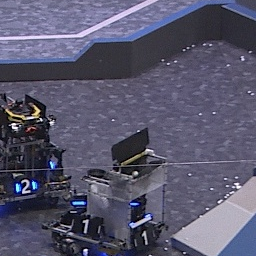Blue: (12, 179, 38, 194)
Dead: (133, 226, 157, 249), (69, 217, 101, 234)
Robot: (45, 129, 171, 255), (1, 96, 74, 207)
